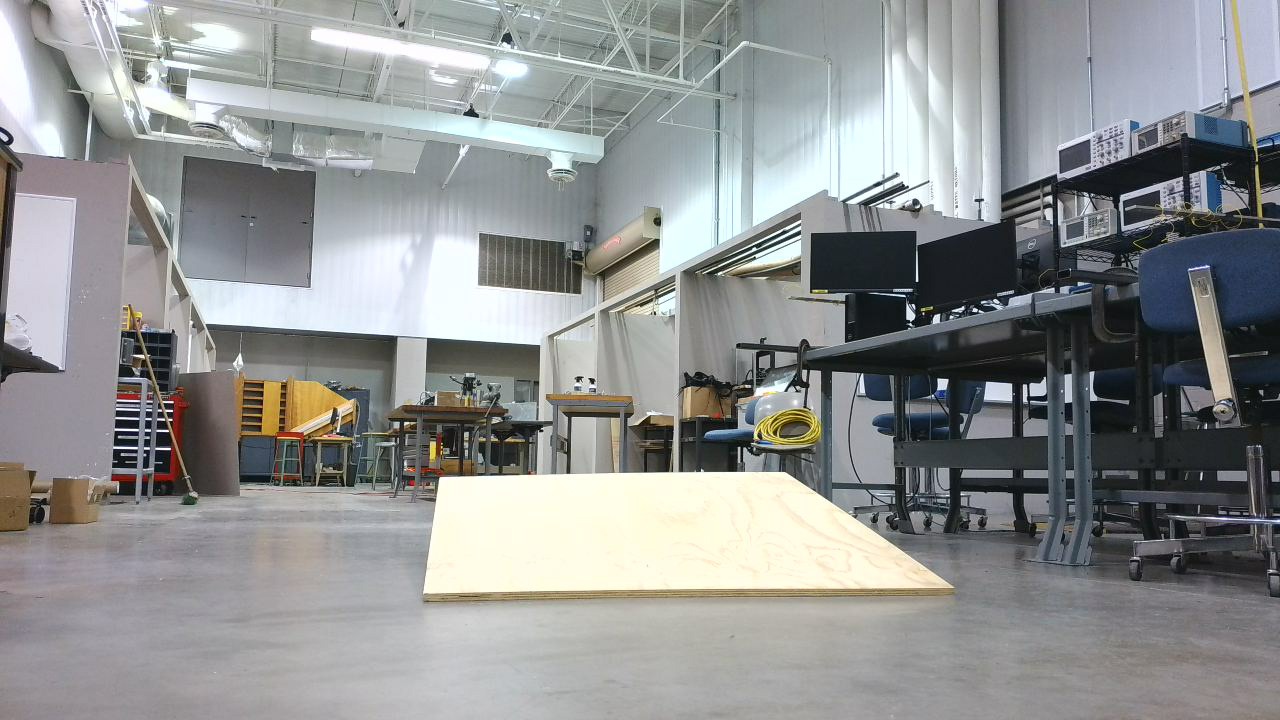ramp: (421, 473, 965, 613)
